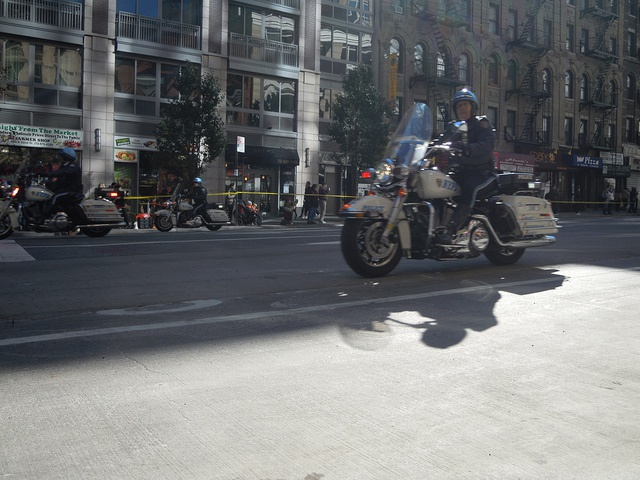non-vehicle: (341, 104, 559, 273), (0, 175, 123, 235), (155, 181, 230, 232)
